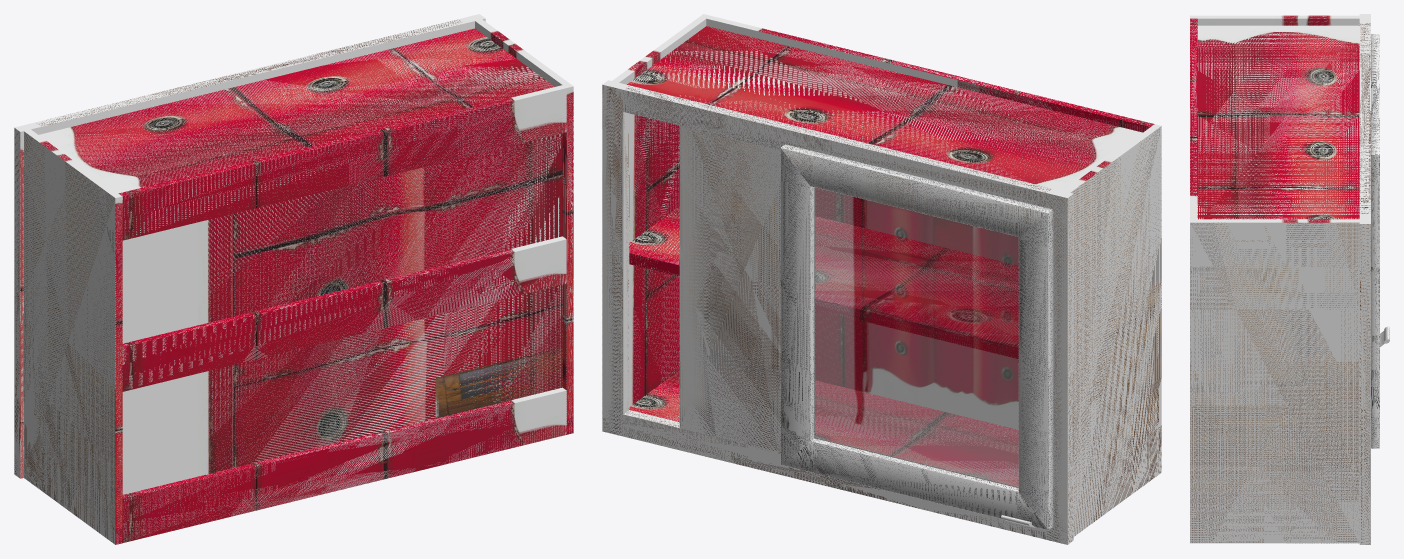
3 renders of one model, left to right at view 1: azimuth 30°, elevation 25°; view 2: azimuth 150°, elevation 25°; view 3: azimuth 270°, elevation 25°, orthographic. The views are drawn at different scales.
Visible parts, largest first — view 1: mesh6_mesh6-geometry, mesh3_mesh3-geometry, mesh8_mesh8-geometry, mesh2_mesh2-geometry, mesh4_mesh4-geometry, mesh7_mesh7-geometry, mesh24_mesh24-geometry, mesh9_mesh9-geometry; view 2: mesh13_mesh13-geometry, mesh14_mesh14-geometry, mesh2_mesh2-geometry, mesh8_mesh8-geometry, mesh11_mesh11-geometry, mesh12_mesh12-geometry, mesh5_mesh5-geometry, mesh4_mesh4-geometry, mesh7_mesh7-geometry, mesh10_mesh10-geometry, mesh22_mesh22-geometry, mesh16_mesh16-geometry (+8 smaller); view 3: mesh7_mesh7-geometry, mesh2_mesh2-geometry, mesh10_mesh10-geometry, mesh4_mesh4-geometry, mesh22_mesh22-geometry, mesh8_mesh8-geometry, mesh3_mesh3-geometry, mesh17_mesh17-geometry, mesh18_mesh18-geometry, mesh19_mesh19-geometry.
Part boxes in pixels (bbox=[...]): mesh6_mesh6-geometry: bbox=[122, 133, 562, 494]; mesh3_mesh3-geometry: bbox=[118, 85, 566, 542]; mesh8_mesh8-geometry: bbox=[24, 129, 122, 544]; mesh2_mesh2-geometry: bbox=[39, 28, 554, 193]; mesh4_mesh4-geometry: bbox=[36, 19, 464, 133]; mesh7_mesh7-geometry: bbox=[475, 19, 573, 434]; mesh24_mesh24-geometry: bbox=[435, 347, 562, 418]; mesh9_mesh9-geometry: bbox=[14, 122, 41, 478]; mesh13_mesh13-geometry: bbox=[816, 188, 1018, 485]; mesh14_mesh14-geometry: bbox=[817, 188, 1018, 484]; mesh2_mesh2-geometry: bbox=[627, 26, 1142, 486]; mesh8_mesh8-geometry: bbox=[1063, 124, 1161, 536]; mesh11_mesh11-geometry: bbox=[679, 126, 780, 452]; mesh12_mesh12-geometry: bbox=[629, 206, 1018, 358]; mesh5_mesh5-geometry: bbox=[815, 188, 1018, 429]; mesh4_mesh4-geometry: bbox=[623, 85, 1052, 539]; mesh7_mesh7-geometry: bbox=[612, 14, 709, 406]; mesh10_mesh10-geometry: bbox=[602, 80, 629, 436]; mesh22_mesh22-geometry: bbox=[780, 181, 816, 438]; mesh16_mesh16-geometry: bbox=[1018, 239, 1053, 496]; mesh7_mesh7-geometry: bbox=[1190, 219, 1359, 543]; mesh2_mesh2-geometry: bbox=[1197, 25, 1359, 219]; mesh10_mesh10-geometry: bbox=[1359, 214, 1370, 544]; mesh4_mesh4-geometry: bbox=[1359, 23, 1370, 214]; mesh22_mesh22-geometry: bbox=[1371, 186, 1379, 417]; mesh8_mesh8-geometry: bbox=[1190, 15, 1359, 25]; mesh3_mesh3-geometry: bbox=[1190, 18, 1197, 219]; mesh17_mesh17-geometry: bbox=[1371, 48, 1379, 140]; mesh18_mesh18-geometry: bbox=[1371, 140, 1379, 185]; mesh19_mesh19-geometry: bbox=[1371, 417, 1379, 448].
Size of the model in its own units: 0.7741 by 0.5513 by 0.3111.
